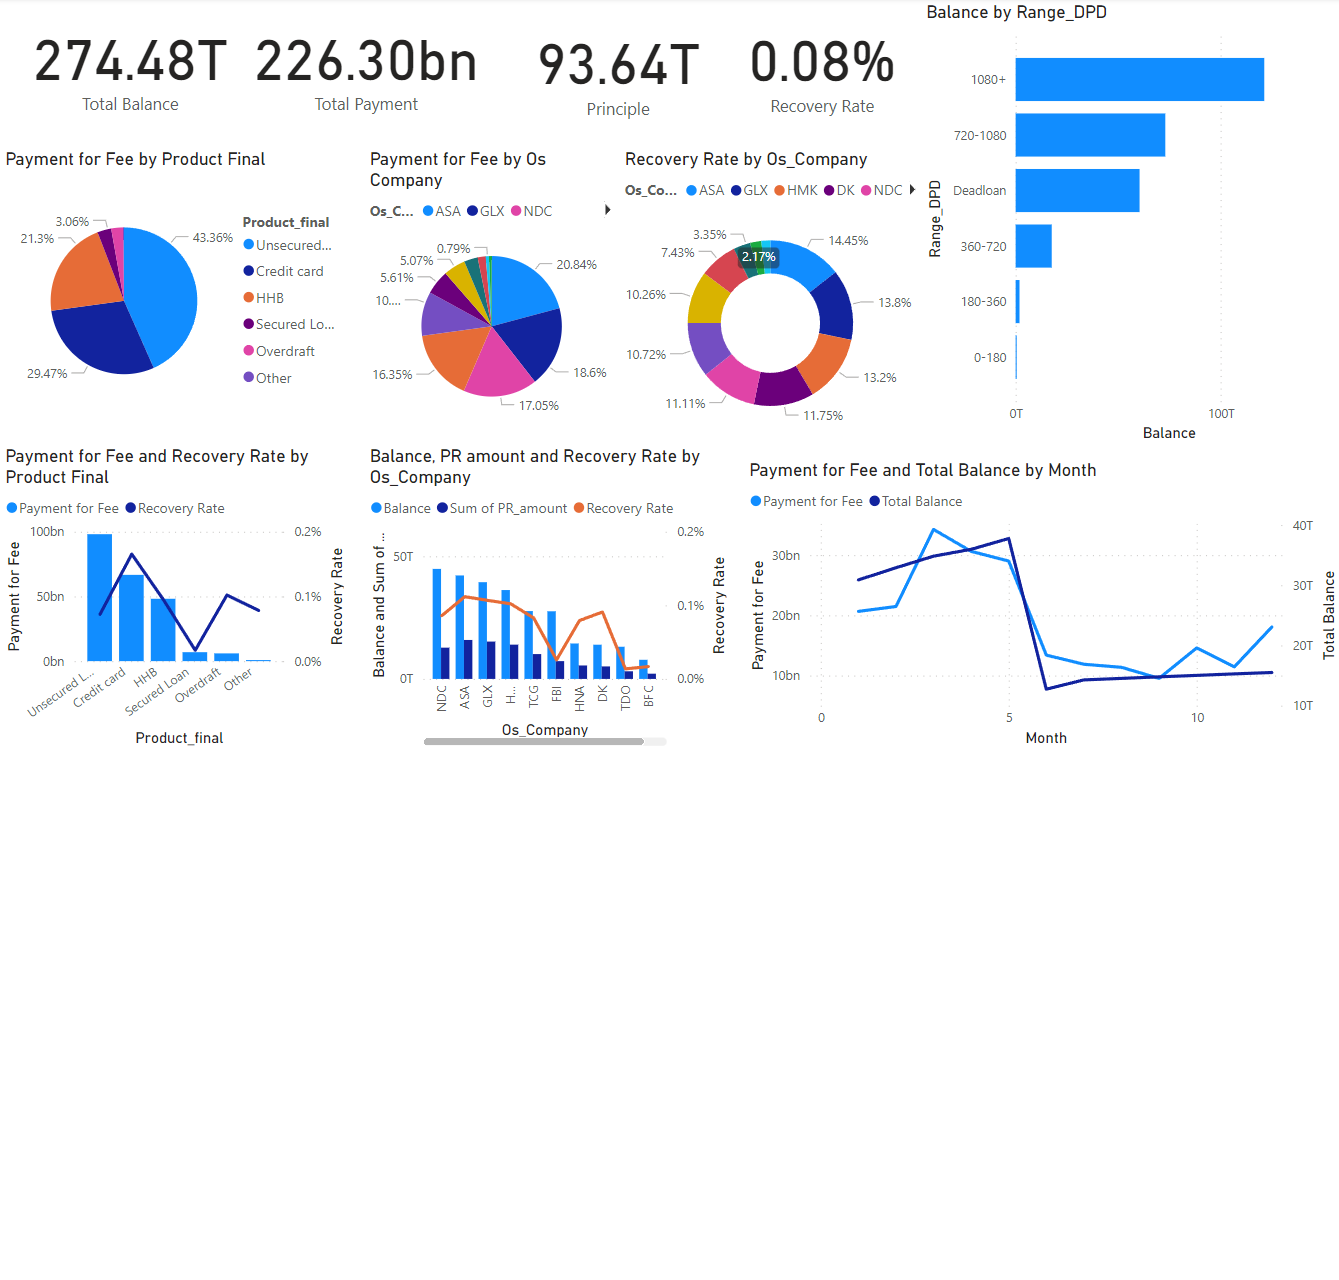

Layout of this report page (visuals, bound fields, positions):
{"tool":"powerbi","page":{"name":"Page 1","canvas":[1280,720],"ordinal":0},"visuals":[{"type":"card","fields":{"Values":["Data.Total Balance"]},"box":[0,0,248,126.9],"z":0},{"type":"card","fields":{"Values":["Data.Total Payment"]},"box":[229.1,0,240.5,126.9],"z":1000},{"type":"card","fields":{"Values":["Data.Recovery Rate"]},"box":[660.8,1.9,246.2,126.9],"z":2000},{"type":"card","fields":{"Values":["Sum(Data.PR_amount)"]},"box":[469.6,3.8,240.5,126.9],"z":3000},{"type":"pieChart","title":"Payment for Fee by Product Final","fields":{"Category":["Data.Product_final"],"Y":["Sum(Data.Payment_for_Fee)"]},"box":[0,143.9,333.3,270.8],"z":4000},{"type":"clusteredBarChart","title":"Balance by Range_DPD","fields":{"Category":["Data.Range_DPD"],"Y":["Sum(Data.Balance)"]},"box":[878.6,3.8,401.4,424.1],"z":5000},{"type":"lineClusteredColumnComboChart","title":"Balance, PR amount and Recovery Rate by Os_Company","fields":{"Category":["Data.Os_Company"],"Y":["Sum(Data.Balance)","Sum(Data.PR_amount)"],"Y2":["Data.Recovery Rate"]},"box":[348.4,427.9,350.3,291.6],"z":6000},{"type":"lineChart","title":"Payment for Fee and Total Balance by Month","fields":{"Category":["Data.Month"],"Y":["Sum(Data.Payment_for_Fee)"],"Y2":["Data.Total Balance"]},"box":[710.1,441.2,569.9,278.3],"z":7000},{"type":"lineClusteredColumnComboChart","title":"Payment for Fee and Recovery Rate by Product Final","fields":{"Category":["Data.Product_final"],"Y":["Sum(Data.Payment_for_Fee)"],"Y2":["Data.Recovery Rate"]},"box":[0,427.9,333.3,291.6],"z":8000},{"type":"pieChart","title":"Payment for Fee by Os Company","fields":{"Category":["Data.Os_Company"],"Y":["Sum(Data.Payment_for_Fee)"]},"box":[348.4,143.9,242.4,270.8],"z":9000},{"type":"donutChart","fields":{"Y":["Data.Recovery Rate"],"Category":["Data.Os_Company"]},"box":[590.8,143.9,287.8,284],"z":10000}]}

Visuals, with their boxes on the page's 1280x720 design canvas (x1, y1, x2, y2). These are canvas units, not pixel positions in the 1339x1280 screenshot, which may show the page scaled, cropped or inside an application window:
card - Data.Total Balance: (x1=0, y1=0, x2=248, y2=127)
card - Data.Total Payment: (x1=229, y1=0, x2=470, y2=127)
card - Data.Recovery Rate: (x1=661, y1=2, x2=907, y2=129)
card - Sum(Data.PR_amount): (x1=470, y1=4, x2=710, y2=131)
"Payment for Fee by Product Final" pieChart: (x1=0, y1=144, x2=333, y2=415)
"Balance by Range_DPD" clusteredBarChart: (x1=879, y1=4, x2=1280, y2=428)
"Balance, PR amount and Recovery Rate by Os_Company" lineClusteredColumnComboChart: (x1=348, y1=428, x2=699, y2=720)
"Payment for Fee and Total Balance by Month" lineChart: (x1=710, y1=441, x2=1280, y2=720)
"Payment for Fee and Recovery Rate by Product Final" lineClusteredColumnComboChart: (x1=0, y1=428, x2=333, y2=720)
"Payment for Fee by Os Company" pieChart: (x1=348, y1=144, x2=591, y2=415)
donutChart - Data.Recovery Rate x Data.Os_Company: (x1=591, y1=144, x2=879, y2=428)
